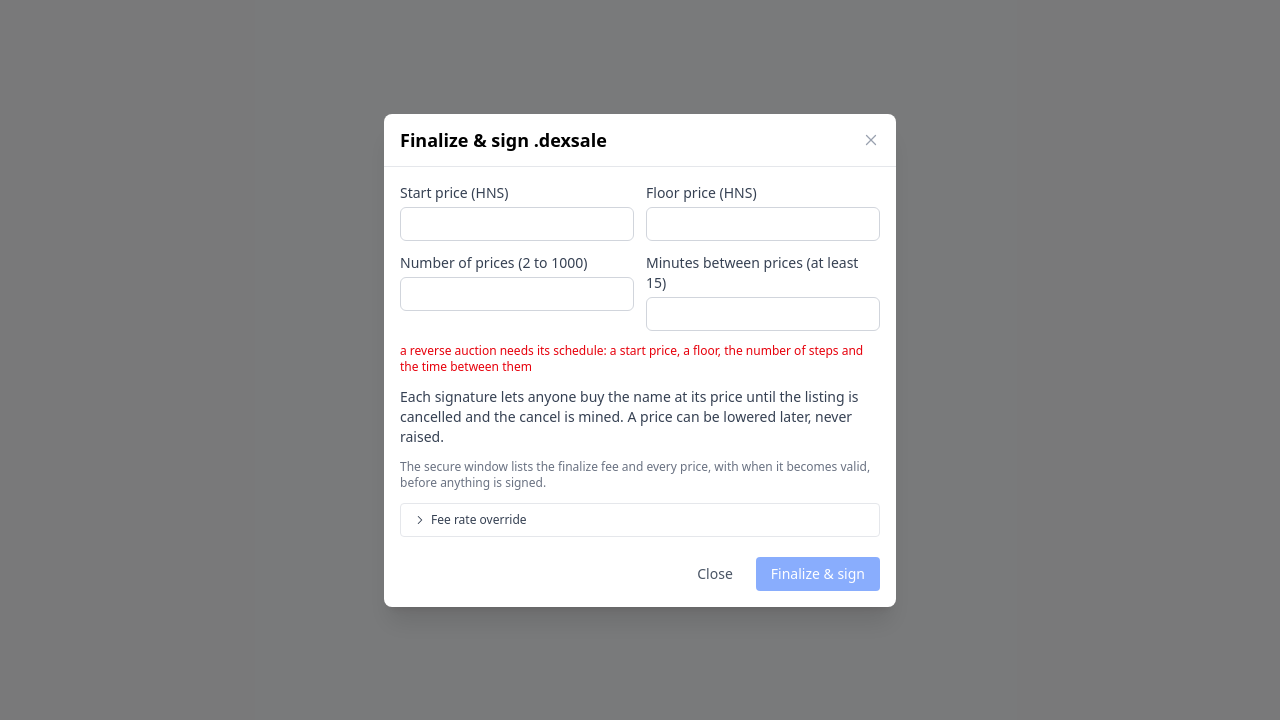
FinalizeAndSign › refuses steps closer than 15 minutes in the backend's words
Type "10" into the field with test id "fas-start". click: [517, 224]
box: [400, 206, 634, 240]
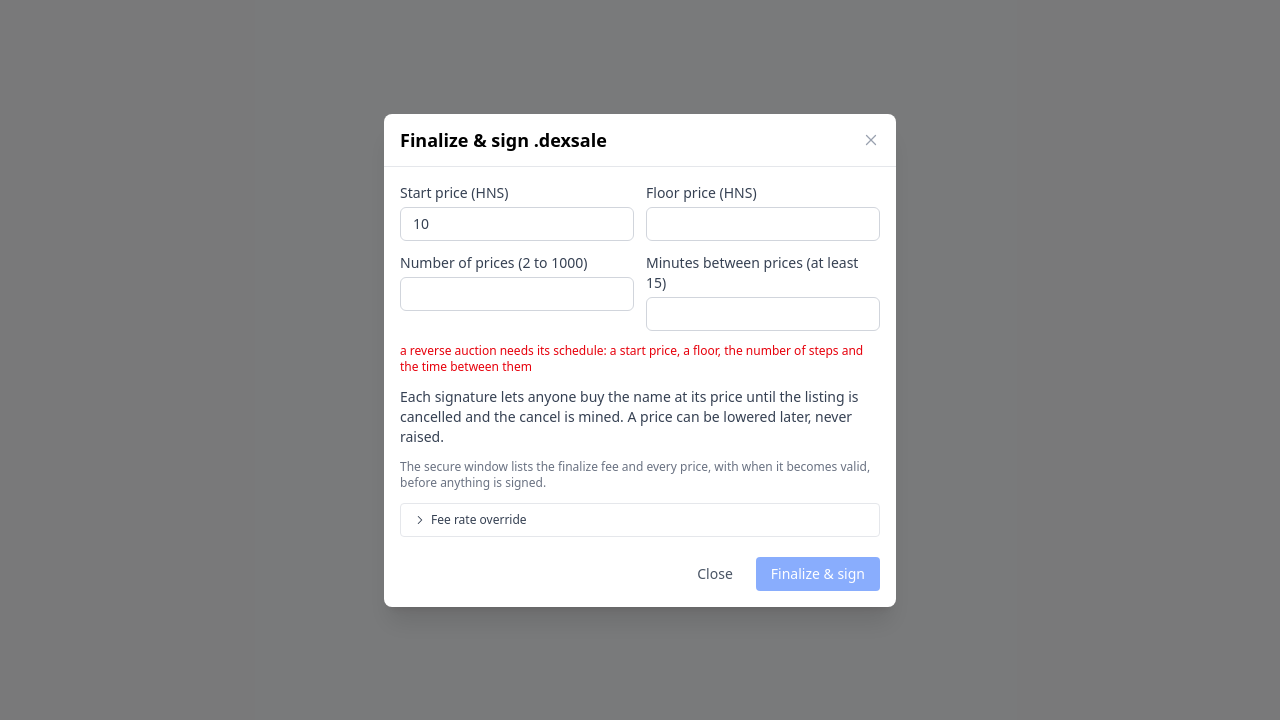
Type "5" into the field with test id "fas-floor". click: [763, 224]
box: [646, 206, 880, 240]
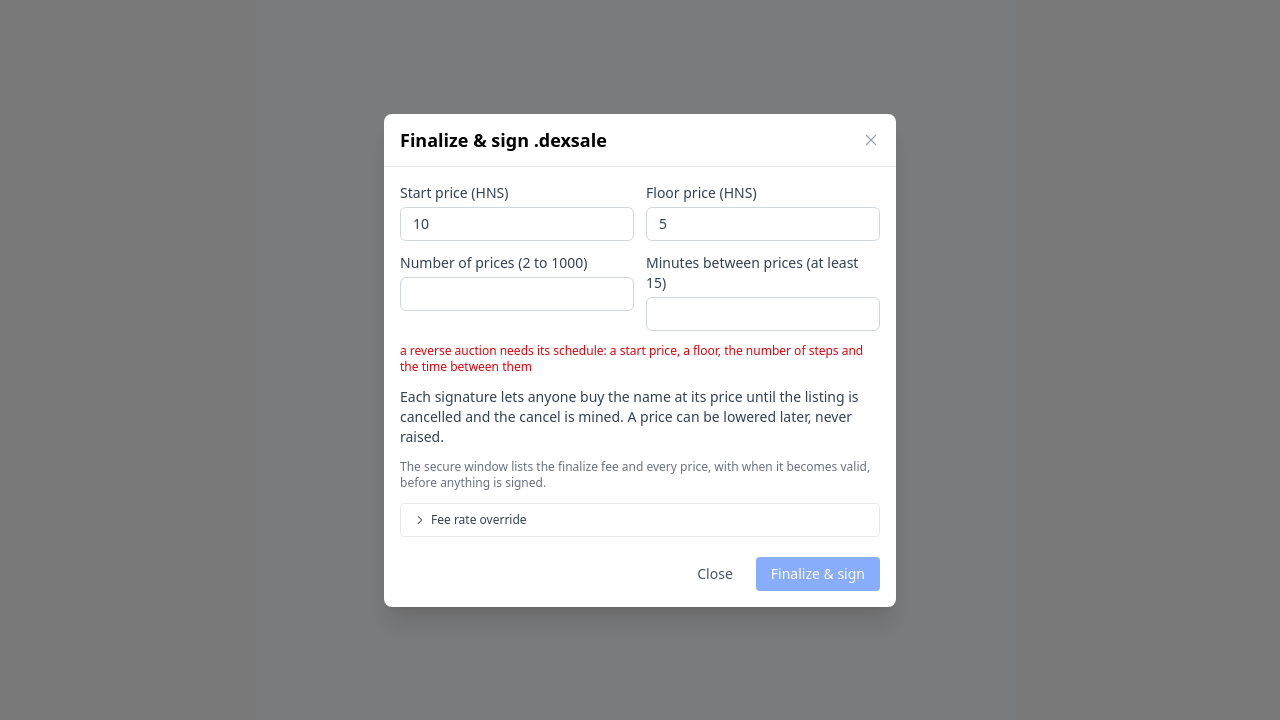
Type "3" into the field with test id "fas-steps". click: [517, 294]
box: [400, 276, 634, 310]
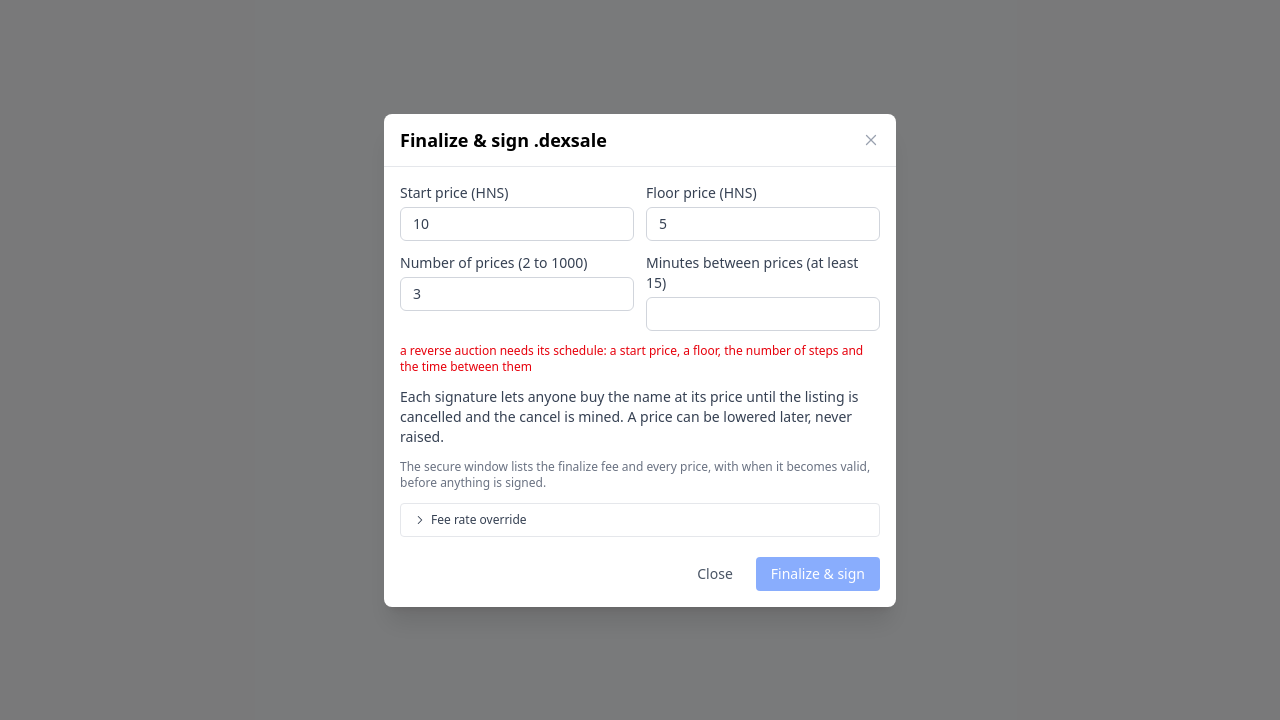
Type "10" into the field with test id "fas-interval". click: [763, 314]
box: [646, 296, 880, 330]
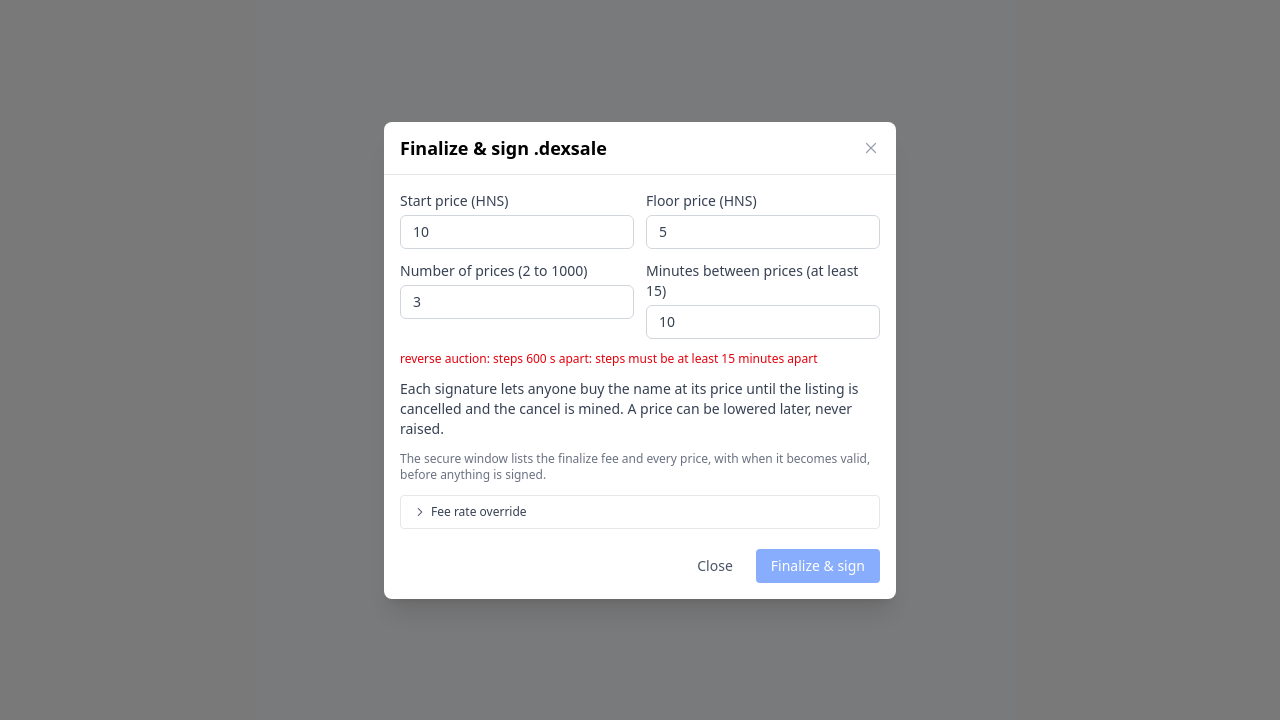
expect the button with test id "fas-submit" is disabled: met, box [756, 548, 880, 582]
expect the text "reverse auction: steps 600 s apart: steps must be at least 15 minutes apart" is shown: met, box [400, 350, 880, 366]
